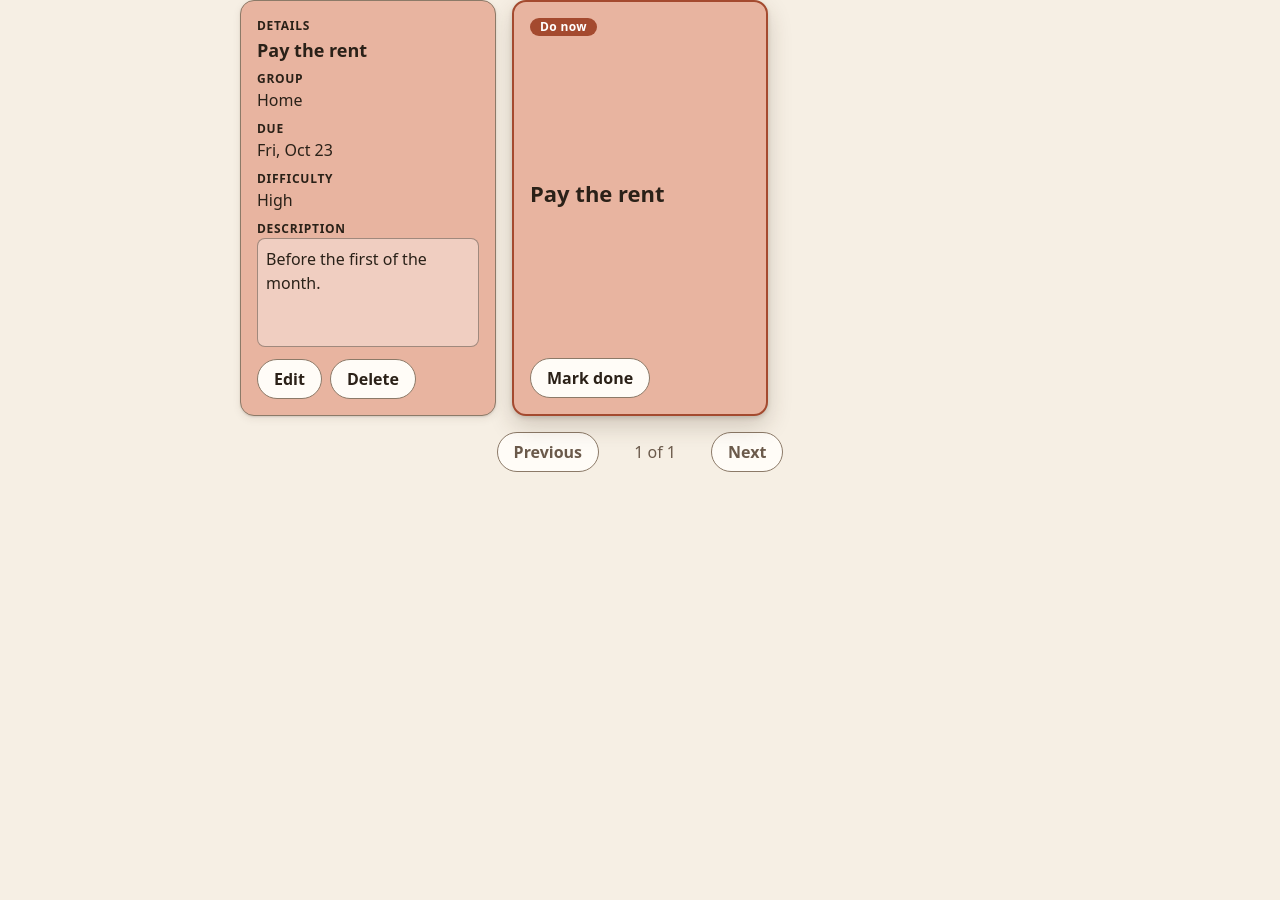
Test case: Edit › says the task may not have been saved when no answer comes, in one sentence
The width and height of the screenshot is (1280, 900).
Click the button "Edit": {"x": 289, "y": 379} x1=257 y1=359 x2=322 y2=399
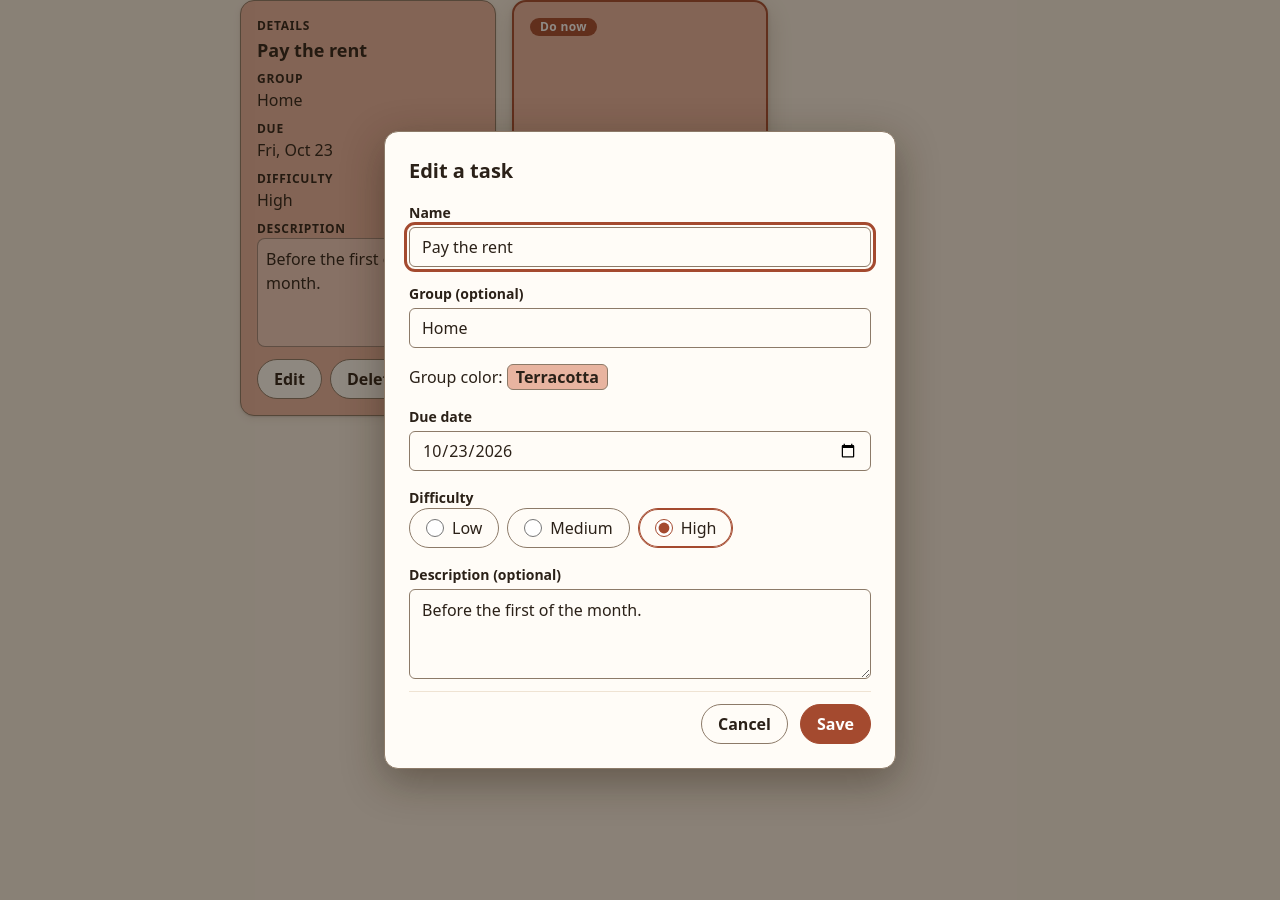
Submit the form, box x1=409 y1=202 x2=871 y2=744
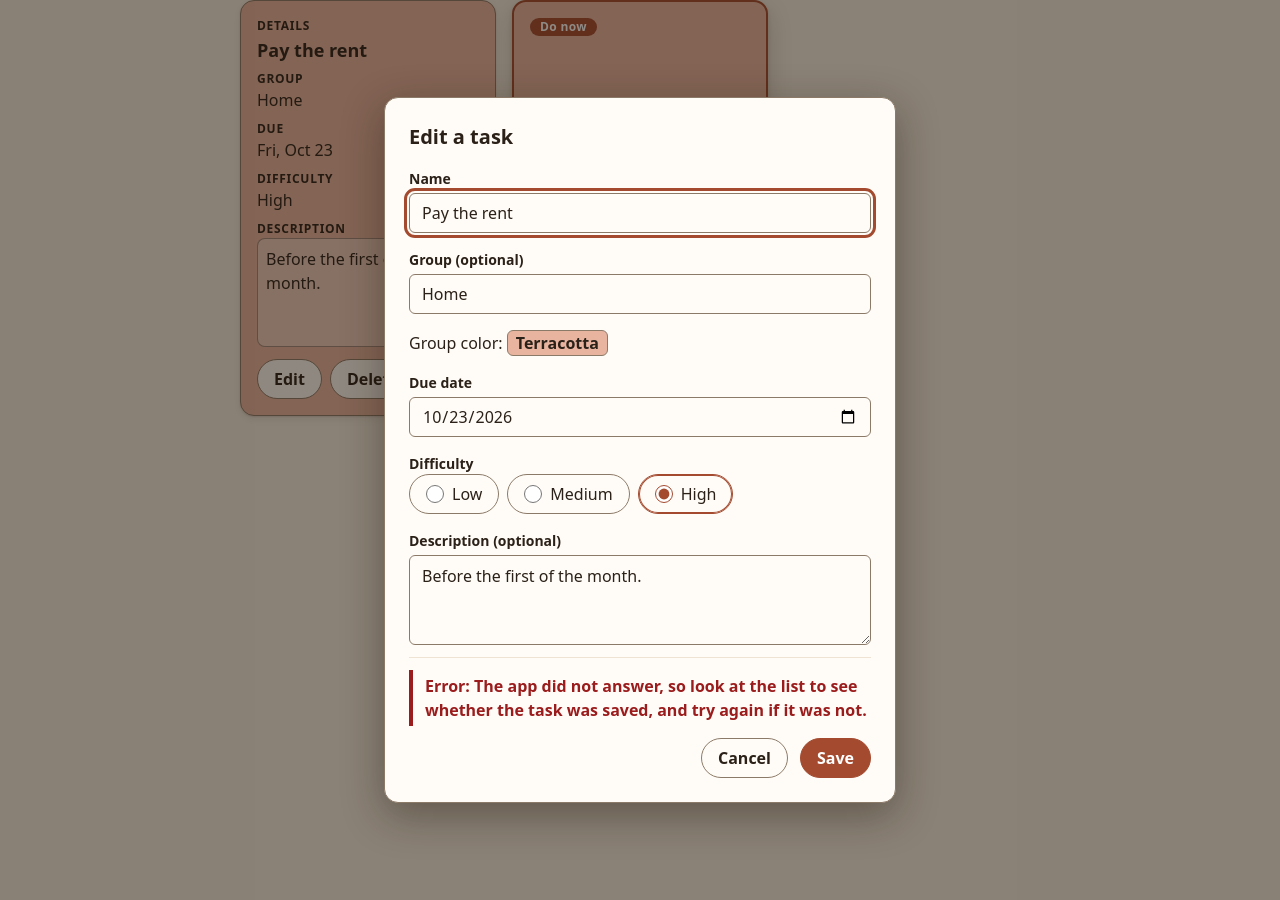
Result: the number of dialogs is 1 at x1=384 y1=97 x2=896 y2=803
Result: the message shows "look at the list to see whether the task was saved" at x1=425 y1=675 x2=867 y2=721
